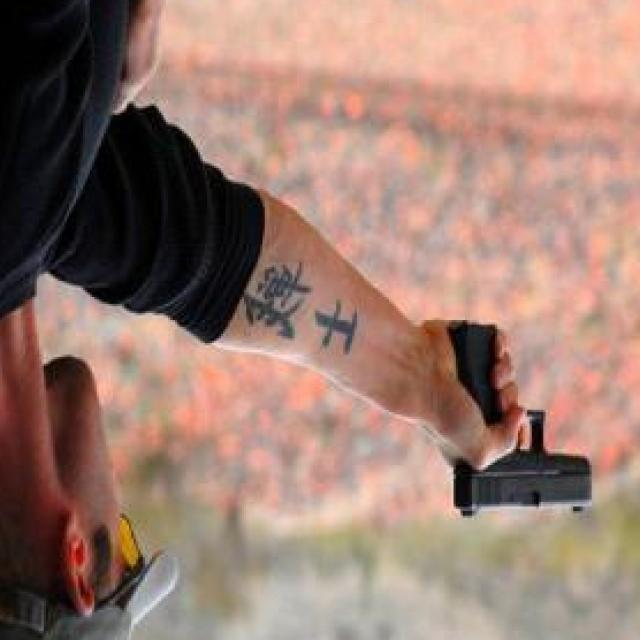pistol: (444, 325, 594, 520)
